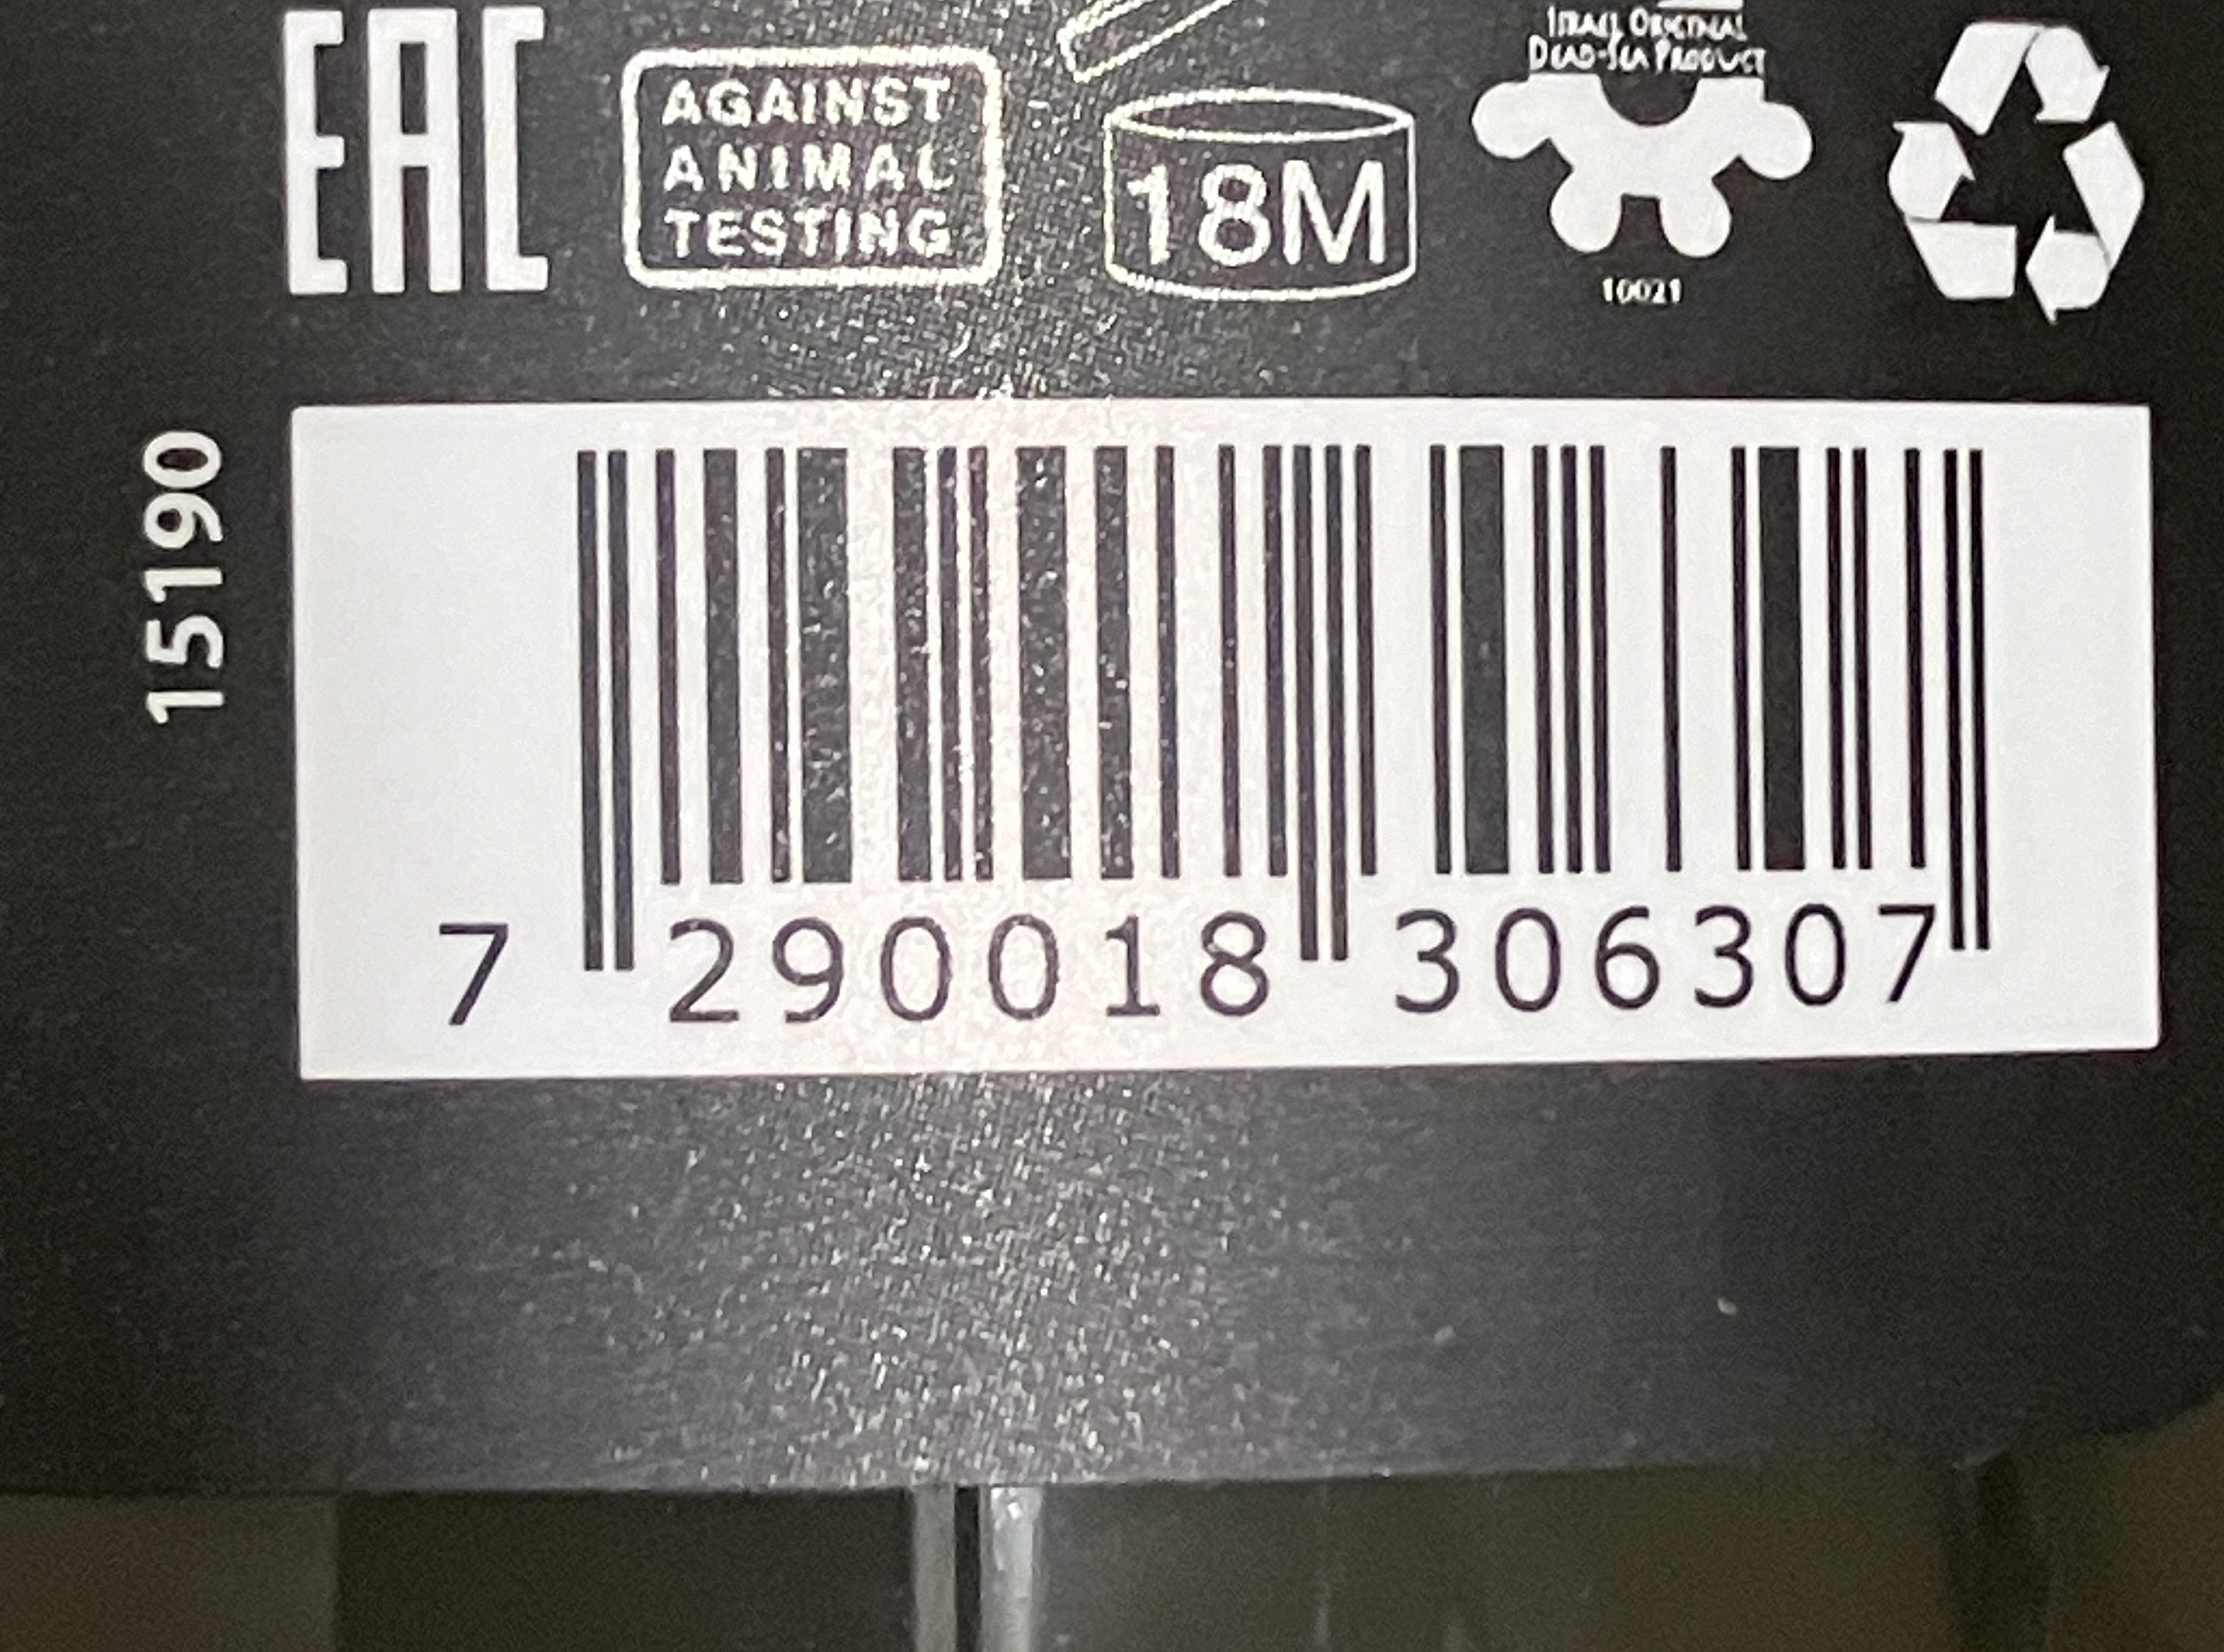1d: (579, 451, 1992, 970)
